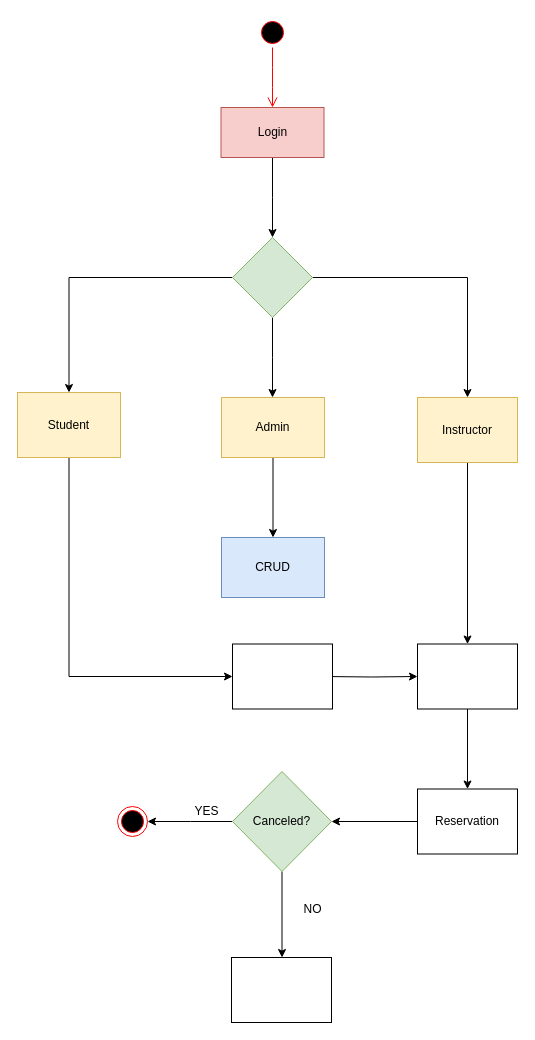
This 535x1040 diagram has some shape labels left out. The shapes that lost their labels are listed below. From the top down, each one's box as (x1, y1, x2, y2) in pixels, then its label:
(232, 236, 312, 318): User?
(232, 643, 332, 709): Book practice
(416, 643, 518, 709): Schedule
(230, 956, 332, 1022): PRACTICE
